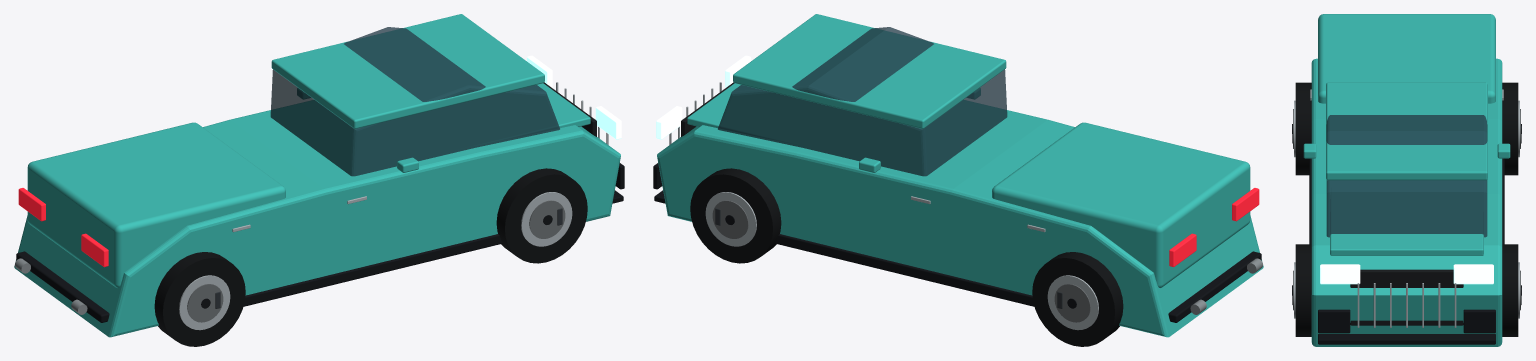
The model's file is chevy_silverado_2500hd.glb.
The picture shows the model from 3 angles, left to right: view 1: azimuth 30°, elevation 25°; view 2: azimuth 150°, elevation 25°; view 3: azimuth 270°, elevation 25°; orthographic projection. The views are drawn at different scales.
Parts seen in each view (by area): view 1: sculpted_body, pickup_bed, cab, cab_roof, hood_center, rear_right_wheel_tire, front_right_wheel_tire, side_skirt_1, rear_diffuser, rear_right_wheel_rim, front_right_wheel_rim, rear_right_wheel_disc (+4 smaller); view 2: sculpted_body, pickup_bed, cab, cab_roof, hood_center, rear_left_wheel_tire, front_left_wheel_tire, side_skirt_-1, rear_diffuser, rear_left_wheel_rim, front_left_wheel_rim, rear_left_wheel_disc (+4 smaller); view 3: cab_roof, sculpted_body, cab, pickup_bed, hood_center, front_grille, front_splitter, front_left_wheel_tire, front_right_wheel_tire, rear_left_wheel_tire, rear_right_wheel_tire, headlight_left (+7 smaller).
Part boxes in pixels (left/top/right/bottom): sculpted_body: left=14, top=100, right=620, bottom=337; pickup_bed: left=27, top=122, right=285, bottom=287; cab: left=270, top=27, right=559, bottom=176; cab_roof: left=271, top=14, right=544, bottom=128; hood_center: left=399, top=83, right=590, bottom=151; rear_right_wheel_tire: left=154, top=252, right=245, bottom=346; front_right_wheel_tire: left=496, top=168, right=587, bottom=263; side_skirt_1: left=243, top=234, right=502, bottom=306; rear_diffuser: left=16, top=251, right=109, bottom=322; rear_right_wheel_rim: left=179, top=275, right=230, bottom=330; front_right_wheel_rim: left=521, top=192, right=572, bottom=246; rear_right_wheel_disc: left=187, top=284, right=223, bottom=322; sculpted_body: left=657, top=100, right=1263, bottom=337; pickup_bed: left=992, top=122, right=1250, bottom=287; cab: left=718, top=27, right=1007, bottom=176; cab_roof: left=733, top=14, right=1006, bottom=128; hood_center: left=687, top=83, right=878, bottom=151; rear_left_wheel_tire: left=1032, top=252, right=1123, bottom=346; front_left_wheel_tire: left=690, top=168, right=781, bottom=263; side_skirt_-1: left=775, top=234, right=1034, bottom=306; rear_diffuser: left=1168, top=251, right=1261, bottom=322; rear_left_wheel_rim: left=1047, top=275, right=1098, bottom=330; front_left_wheel_rim: left=705, top=192, right=756, bottom=246; rear_left_wheel_disc: left=1054, top=284, right=1090, bottom=322; cab_roof: left=1326, top=82, right=1487, bottom=180; sculpted_body: left=1311, top=58, right=1502, bottom=346; cab: left=1326, top=115, right=1487, bottom=237; pickup_bed: left=1318, top=14, right=1495, bottom=103; hood_center: left=1330, top=181, right=1483, bottom=255; front_grille: left=1350, top=269, right=1463, bottom=325; front_splitter: left=1318, top=334, right=1495, bottom=344; front_left_wheel_tire: left=1502, top=244, right=1518, bottom=336; front_right_wheel_tire: left=1295, top=244, right=1311, bottom=336; rear_left_wheel_tire: left=1502, top=82, right=1518, bottom=175; rear_right_wheel_tire: left=1295, top=82, right=1311, bottom=175; headlight_left: left=1453, top=264, right=1493, bottom=284.
Size of the model in its own units: 6.08 by 1.94 by 2.33.
